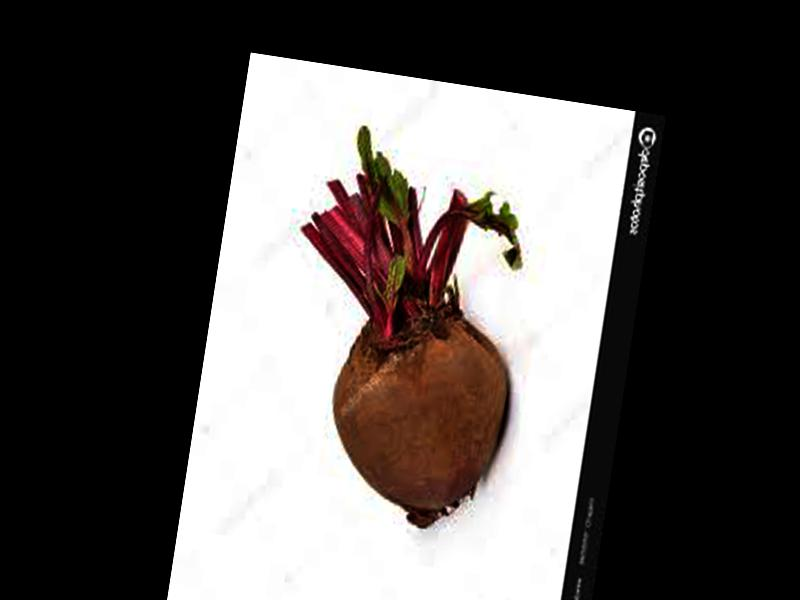Beet: (259, 119, 548, 538)
